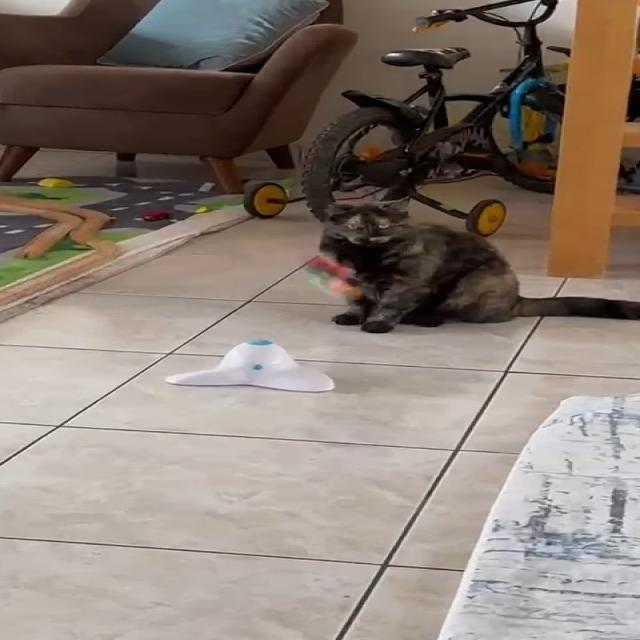authorized: (316, 201, 639, 333)
